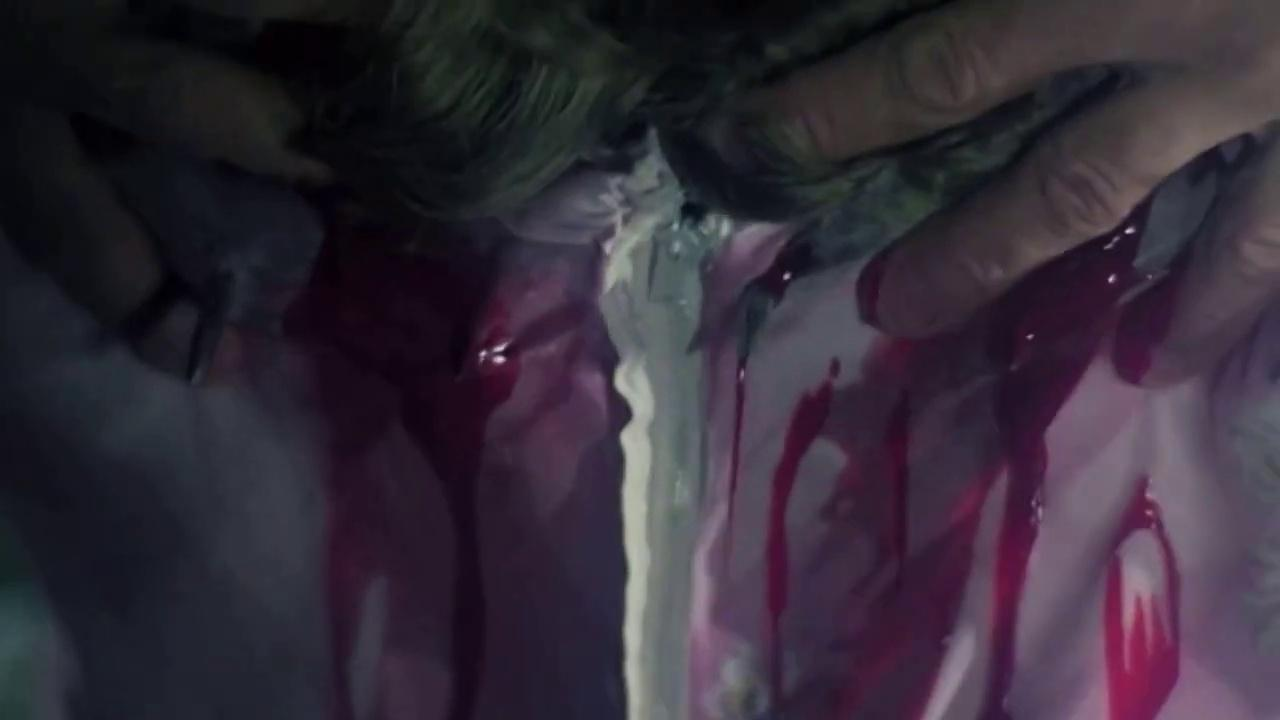Fire: (759, 141, 1244, 718), (298, 219, 520, 714), (729, 217, 843, 500), (1100, 474, 1183, 719)
